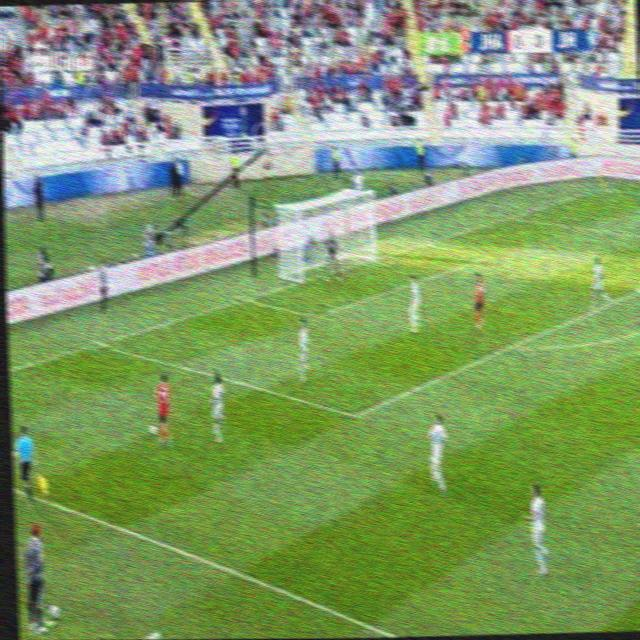bigarea_bottom_inner: (341, 396, 370, 432)
bigarea_bottom_outter: (89, 331, 110, 353)
bigarea_top_outter: (503, 207, 521, 224)
bottom_arc_area_intersection: (501, 332, 526, 360)
corner: (591, 180, 612, 194)
smallarea_bottom_inner: (308, 304, 328, 326)
smallarea_bottom_outter: (234, 288, 256, 309)
smallarea_top_inner: (479, 244, 500, 264)
smallarea_top_outter: (416, 233, 437, 252)
top_arc_area_intersection: (635, 275, 640, 298)
